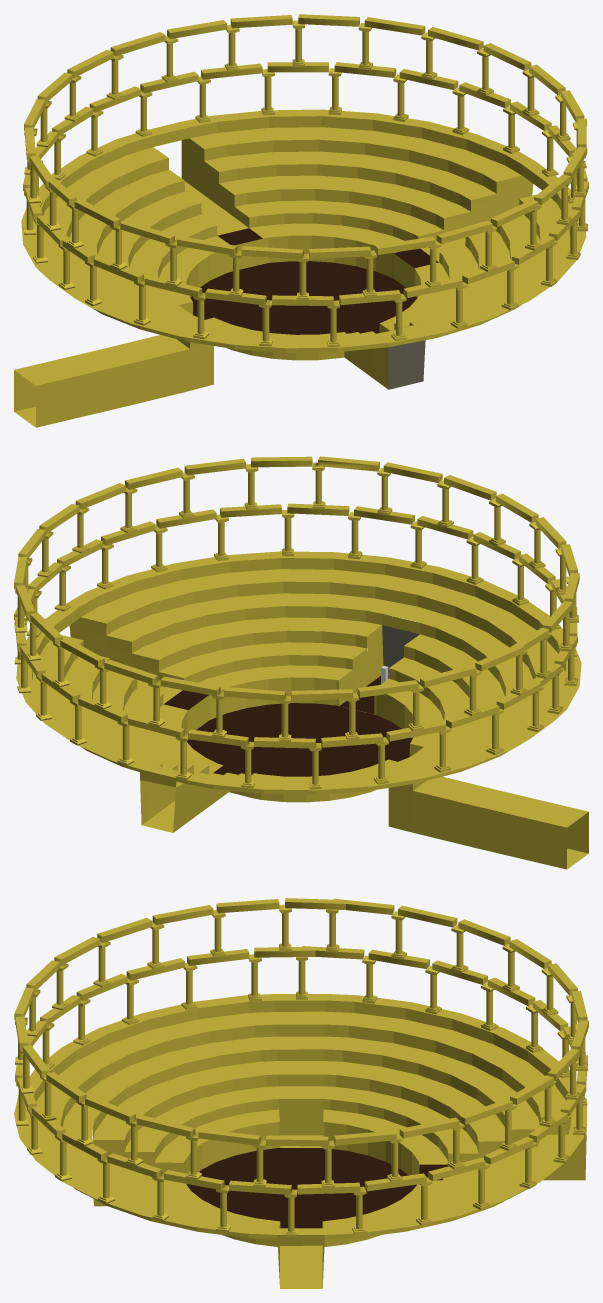
Rendered from MapCenterPrototype.FBX.
3 renders of one model, top to bottom at view 1: azimuth 30°, elevation 25°; view 2: azimuth 150°, elevation 25°; view 3: azimuth 270°, elevation 25°, orthographic.
Parts seen in each view (by area): view 1: Cylinder002, Cylinder036; view 2: Cylinder002, Cylinder036; view 3: Cylinder002, Cylinder036.
Part boxes in pixels (<box>): Cylinder002: <box>14,109,586,427</box>; Cylinder036: <box>23,14,588,346</box>; Cylinder002: <box>16,551,588,869</box>; Cylinder036: <box>14,456,579,789</box>; Cylinder002: <box>14,994,586,1288</box>; Cylinder036: <box>14,898,588,1236</box>.
Bounding box in the file's own units: 46.27 × 18.32 × 43.11.
